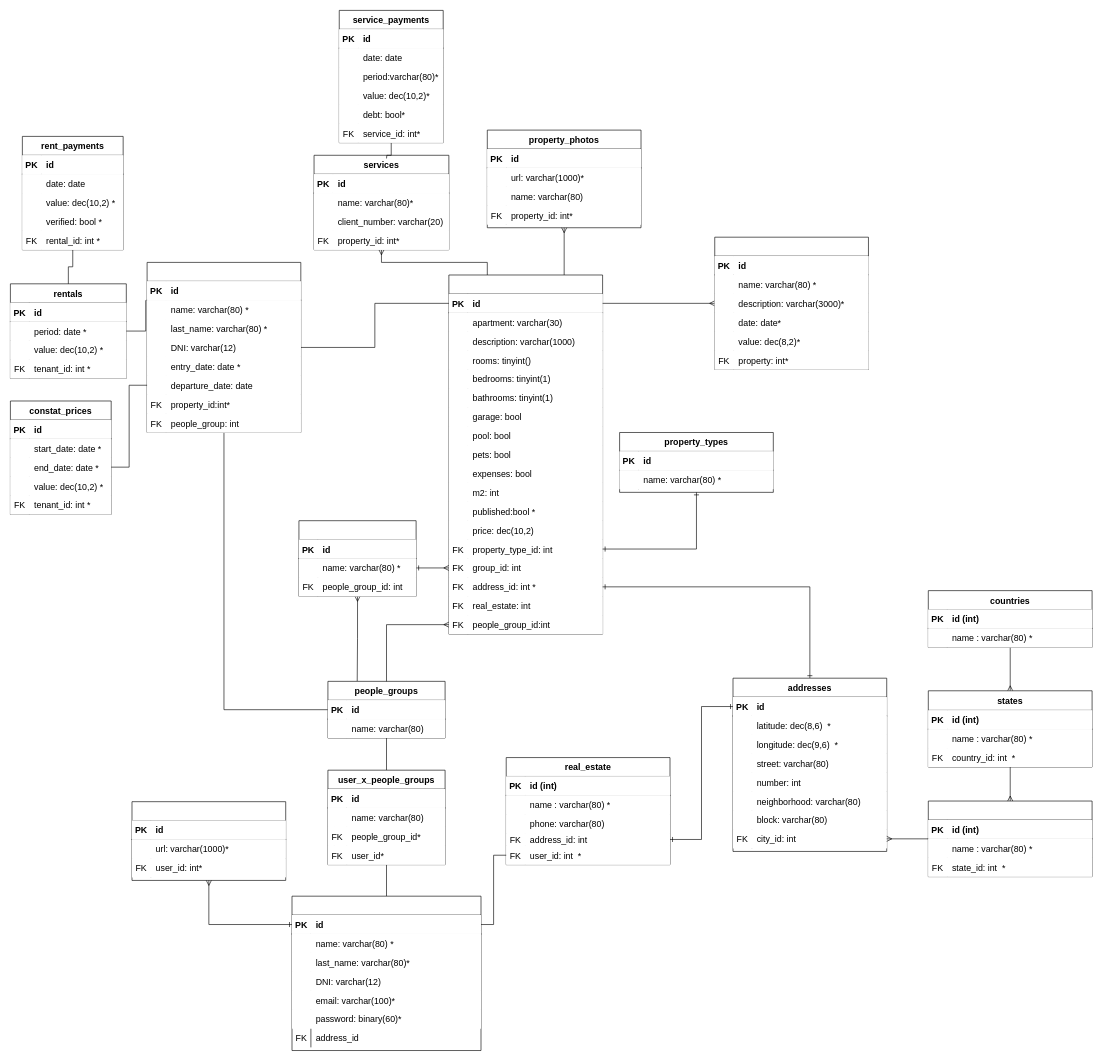
Image size: 1103x1061. Some labels were removed from this diagram. The shapes that lost their labels are listed below. From the top down, each one's box as (x1, y1, x2, y2) in pixels, then its label:
(714, 237, 868, 369): building_repairs
(146, 262, 301, 432): tenant
(448, 274, 603, 634): properties
(298, 520, 416, 596): groups
(131, 801, 286, 880): user_photos
(928, 800, 1092, 877): cities
(291, 896, 481, 1051): users
